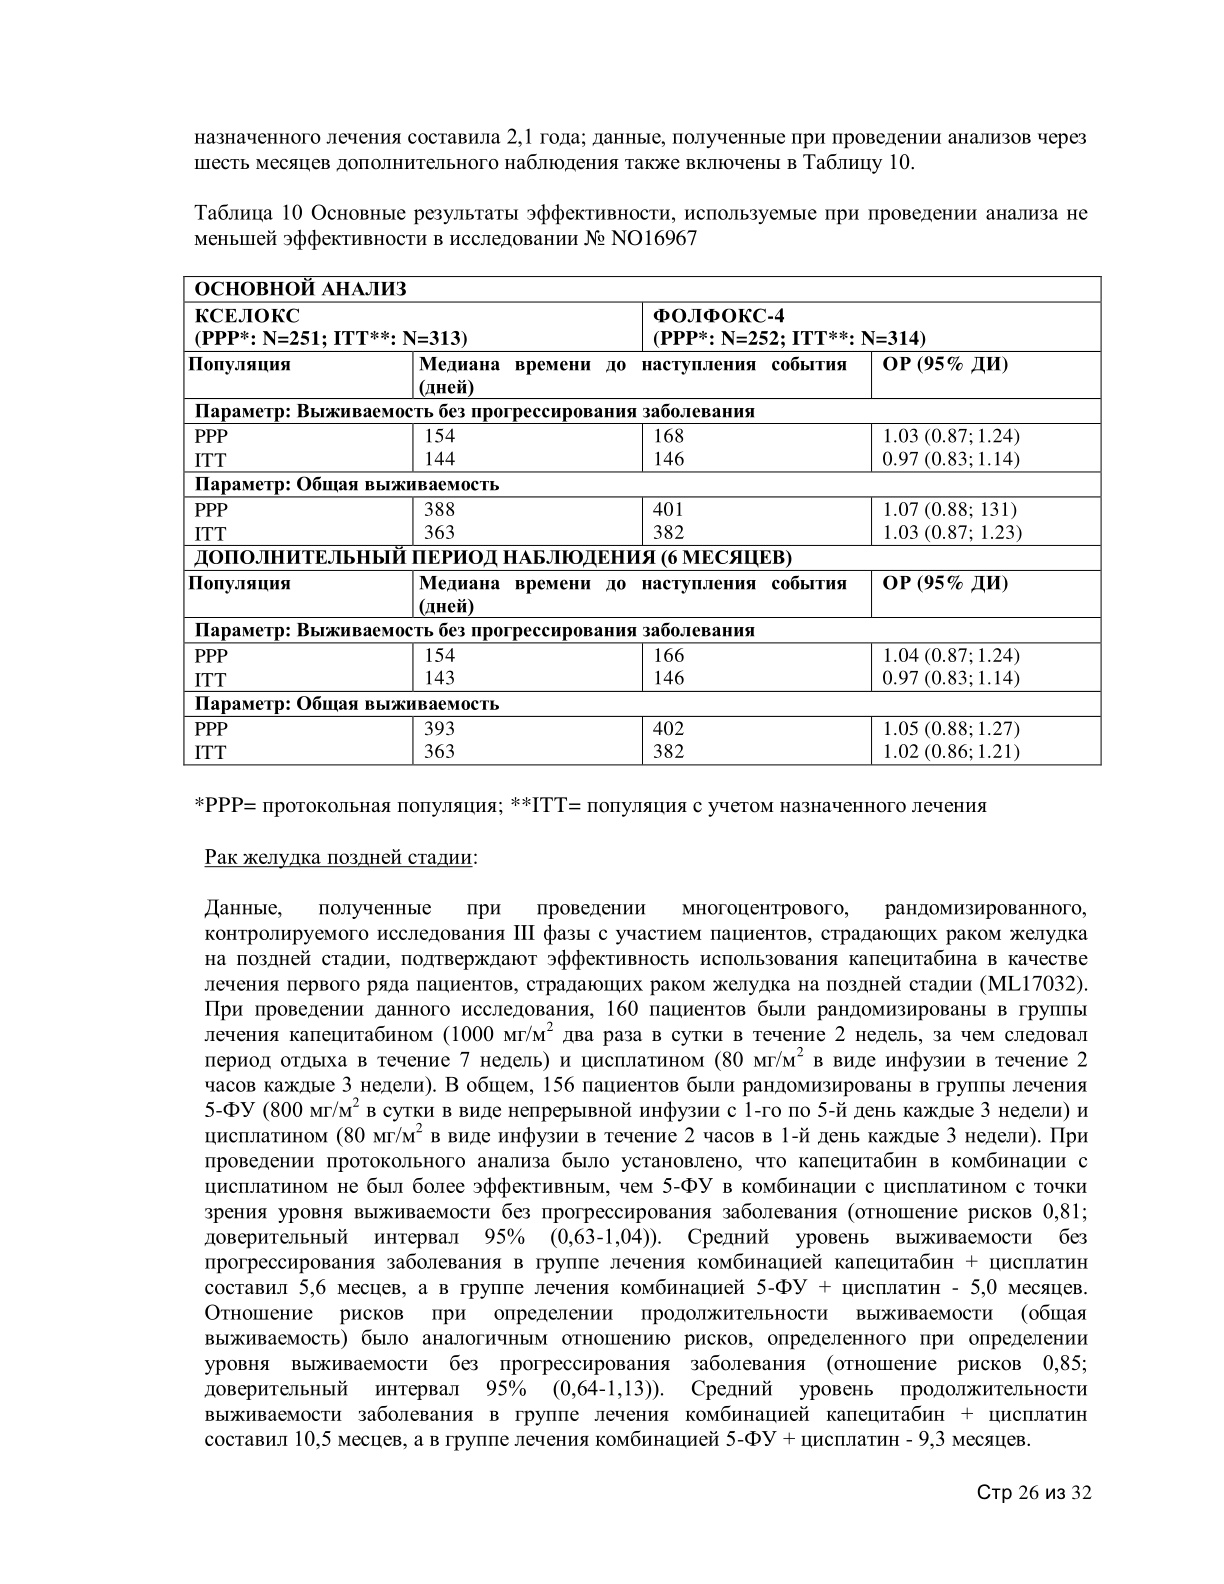merged_cells: (181, 274, 1104, 768)
